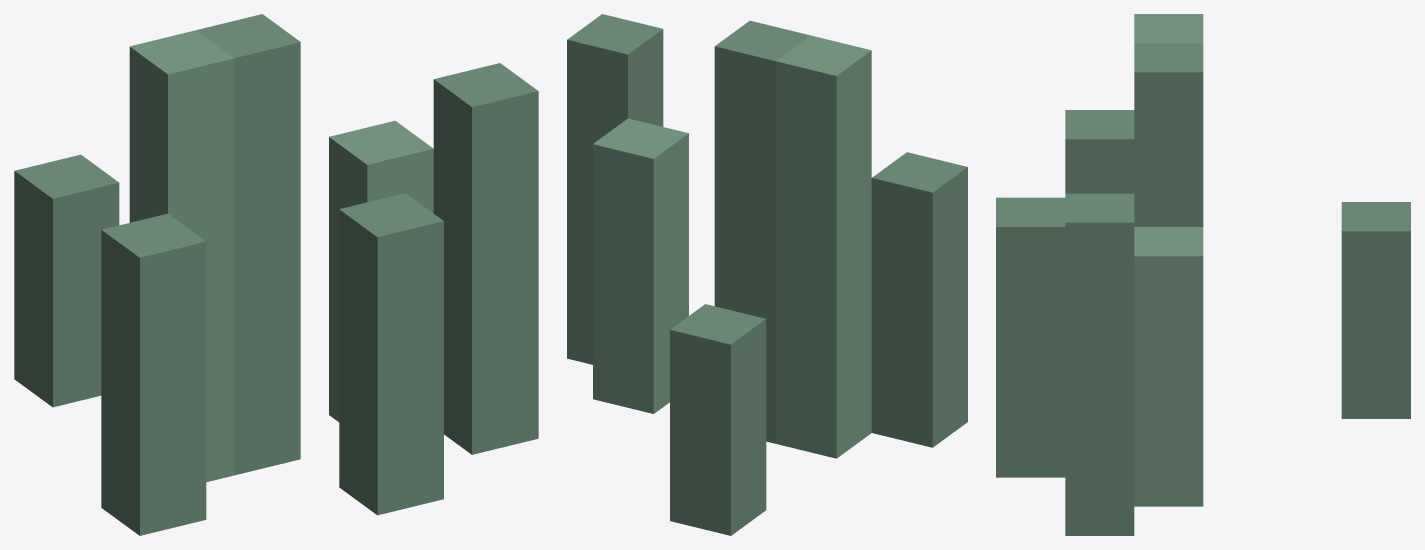
The model's file is algas_varadas_05.glb.
3 views of the same model, side by side, from view 1: azimuth 30°, elevation 25°; view 2: azimuth 150°, elevation 25°; view 3: azimuth 270°, elevation 25° (orthographic). The views are drawn at different scales.
Parts seen in each view (by area): view 1: algas_varadas_05; view 2: algas_varadas_05; view 3: algas_varadas_05.
Part boxes in pixels (bbox=[...]): algas_varadas_05: bbox=[14, 14, 538, 535]; algas_varadas_05: bbox=[567, 14, 967, 535]; algas_varadas_05: bbox=[996, 14, 1410, 535].
Bounding box in the file's own units: 0.6 × 0.6 × 0.6.
